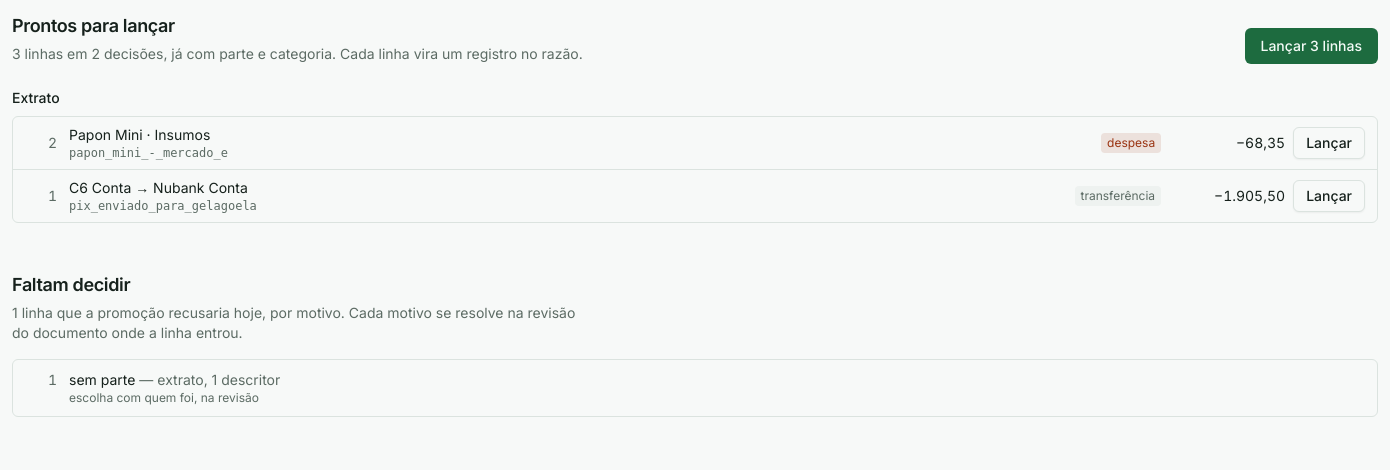
Test: promoting › reports what landed
Expected: the heading "Prontos para lançar" is shown, 12,15 -> 175,36
Click the button "Lançar 3 linhas" at (1311, 46), box 1244,28 -> 1378,64
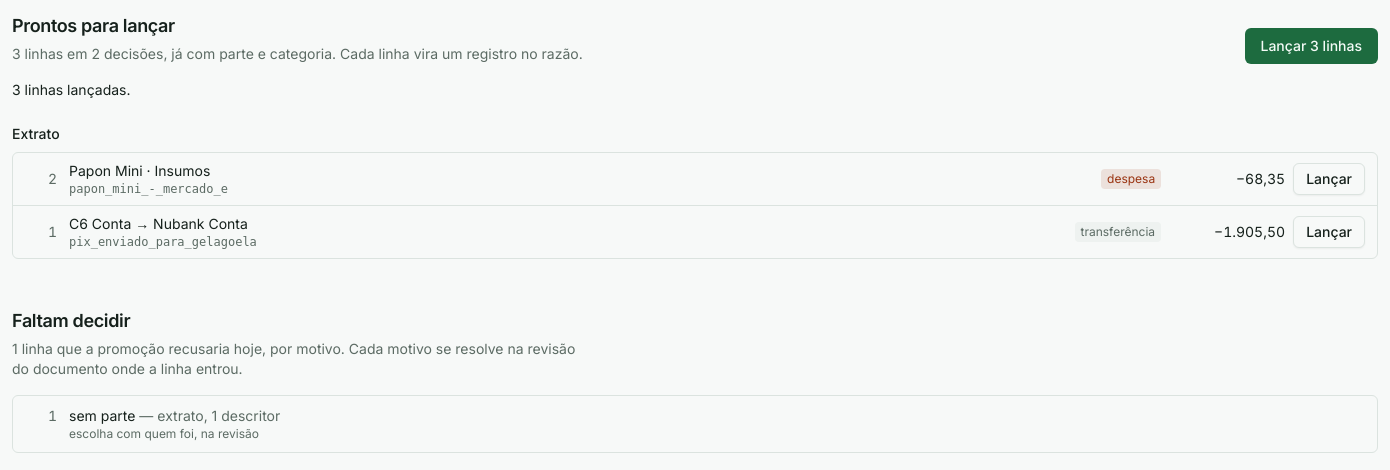
Expected: the element showing "3 linhas lançadas." is shown, 12,81 -> 130,98
